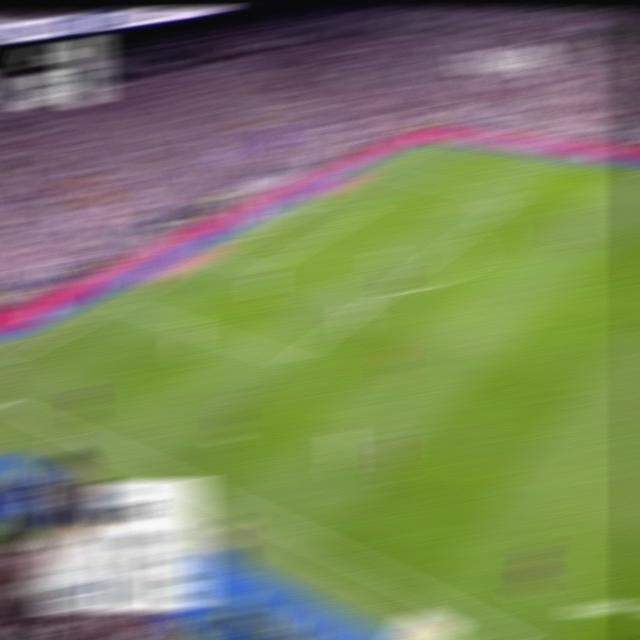bigarea_bottom_inner: (278, 350, 303, 370)
bigarea_bottom_outter: (112, 298, 134, 309)
bigarea_top_inner: (503, 192, 523, 203)
bigarea_top_outter: (370, 168, 390, 176)
bottom_arc_area_intersection: (375, 285, 397, 296)
corner: (424, 141, 443, 145)
smallarea_top_inner: (358, 205, 377, 212)
top_arc_area_intersection: (451, 230, 472, 241)
